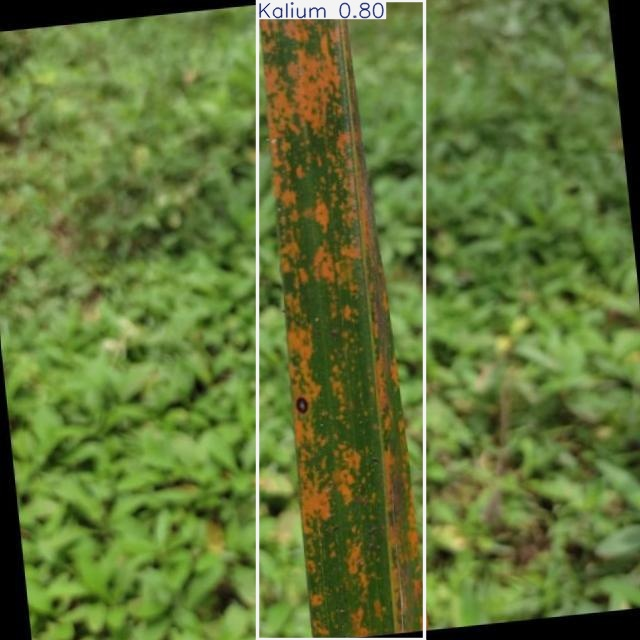Kalium: (258, 0, 424, 640)
